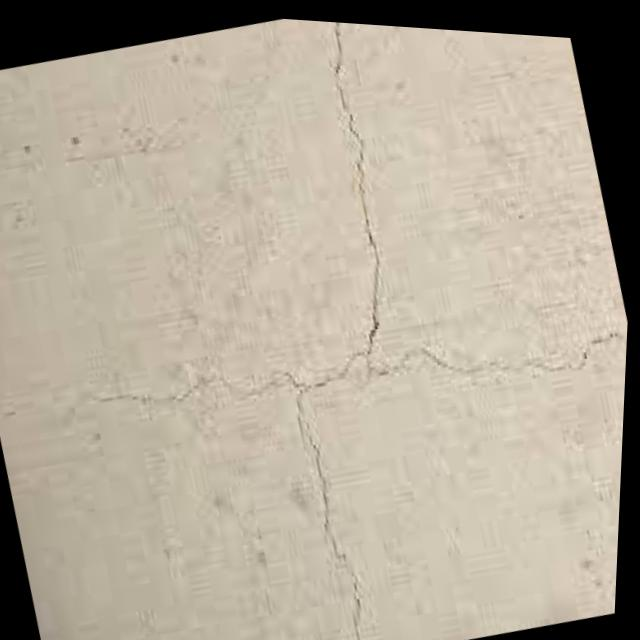Crack: (189, 18, 515, 612)
